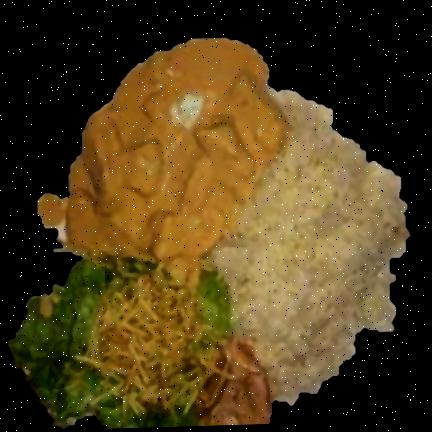chicken: (67, 39, 286, 261)
potato: (89, 276, 203, 410)
rice: (213, 91, 410, 405)
salad: (9, 260, 230, 429)
